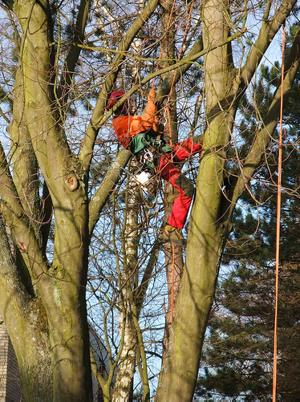person: (108, 84, 205, 249)
